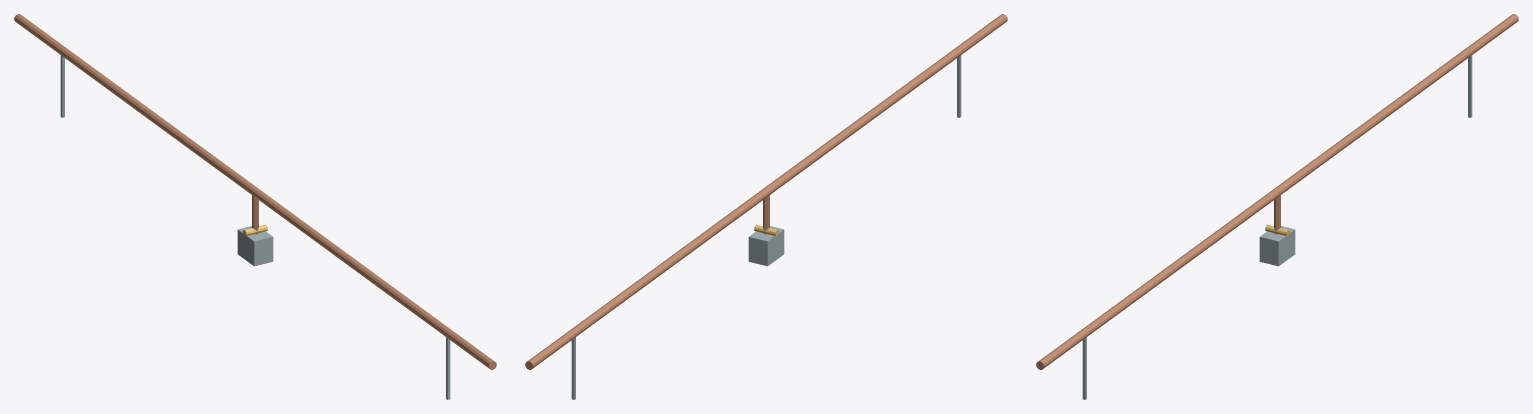
3 views of the same model, side by side, from view 1: azimuth 30°, elevation 25°; view 2: azimuth 150°, elevation 25°; view 3: azimuth 330°, elevation 25° (orthographic).
Size of the model in its own units: 1.8 by 5.64 by 69.
